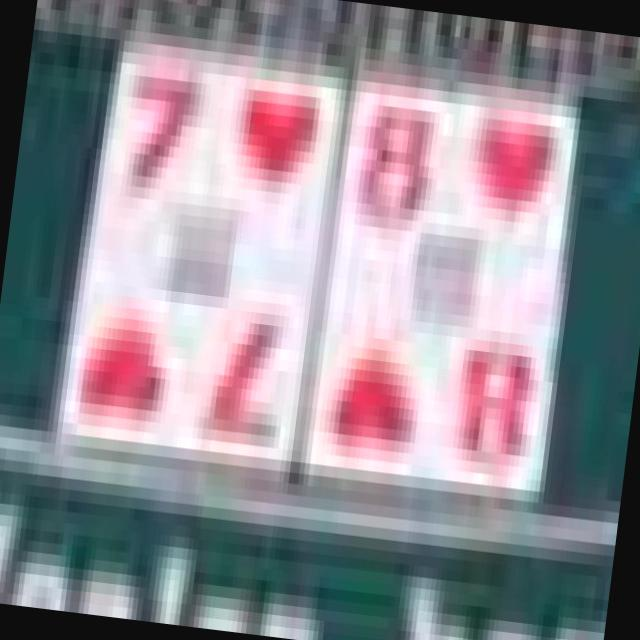Card-7: (64, 55, 343, 471)
Card-8: (312, 87, 577, 493)
